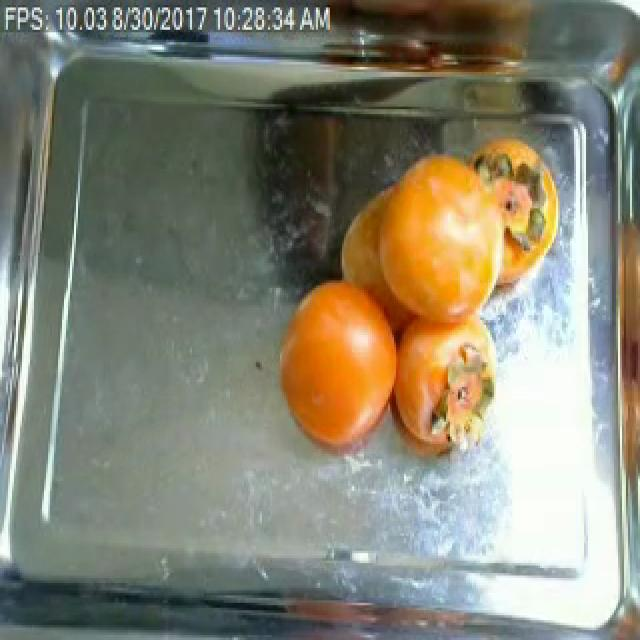Fruit: (254, 92, 424, 240)
